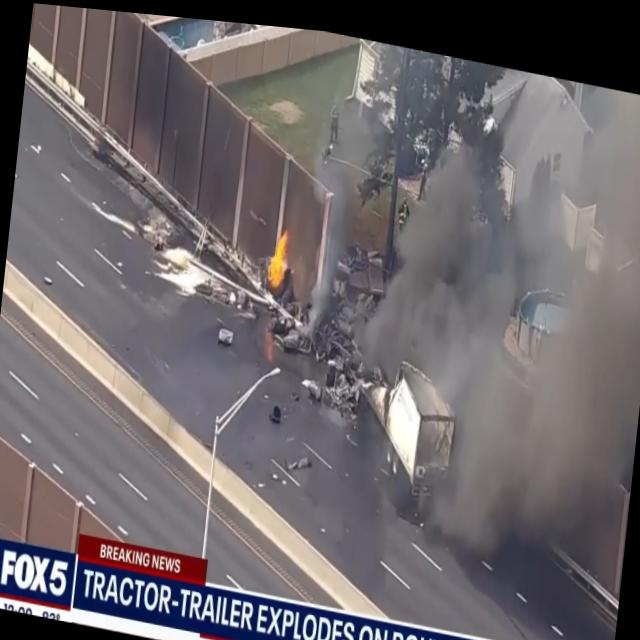Fire: (260, 215, 292, 293)
